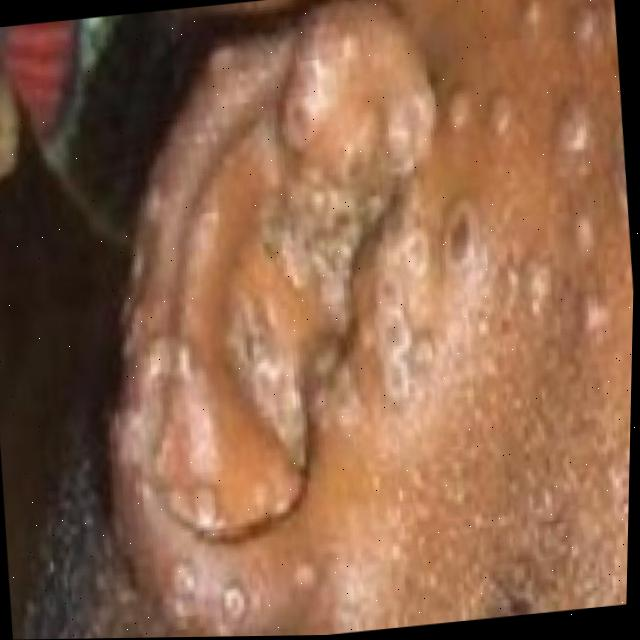Eczema: (65, 0, 635, 639)
